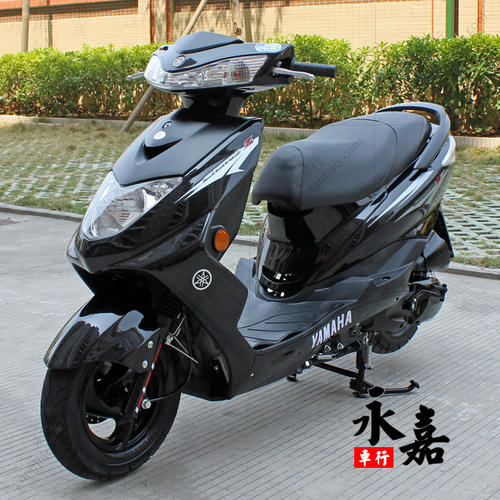motor: (30, 49, 456, 475)
